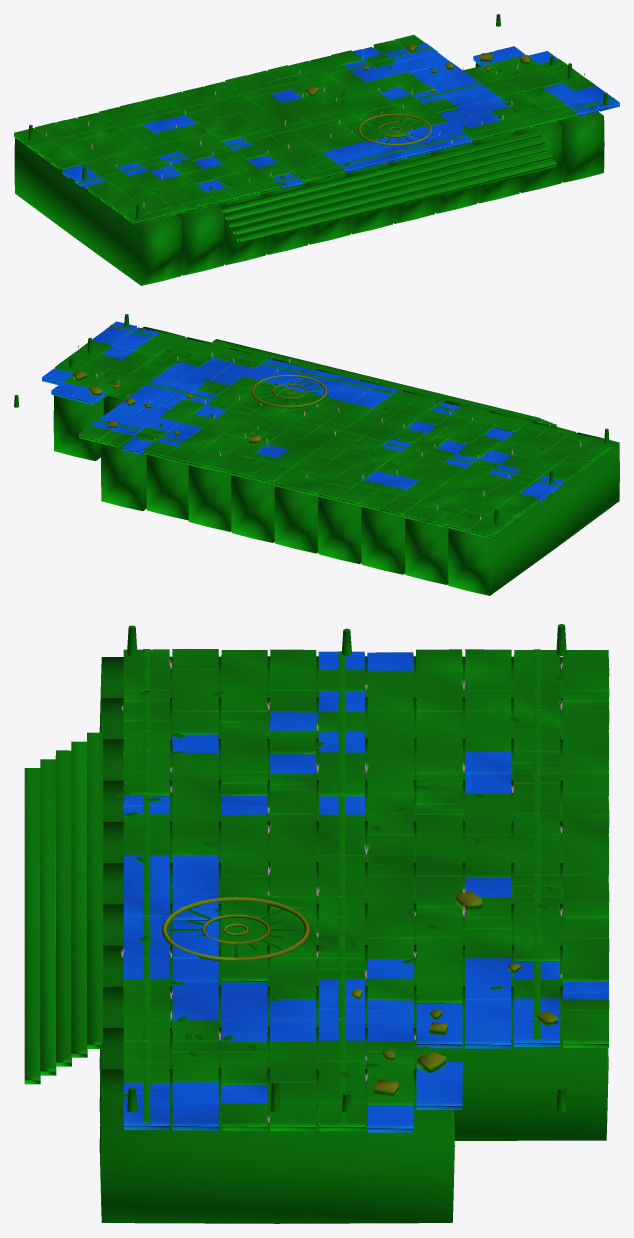
The model's file is iskarra_plaza.glb.
3 renders of one model, top to bottom at view 1: azimuth 30°, elevation 25°; view 2: azimuth 150°, elevation 25°; view 3: azimuth 270°, elevation 25°, orthographic. The views are drawn at different scales.
Parts seen in each view (by area): view 1: iskarra_plaza; view 2: iskarra_plaza; view 3: iskarra_plaza.
Boxes of the visible parts, bbox=[...] form: iskarra_plaza: bbox=[14, 14, 619, 285]; iskarra_plaza: bbox=[14, 314, 619, 595]; iskarra_plaza: bbox=[24, 624, 609, 1223].
Size of what is drawn, in the model's own units: 34.57 by 5.16 by 17.98.
